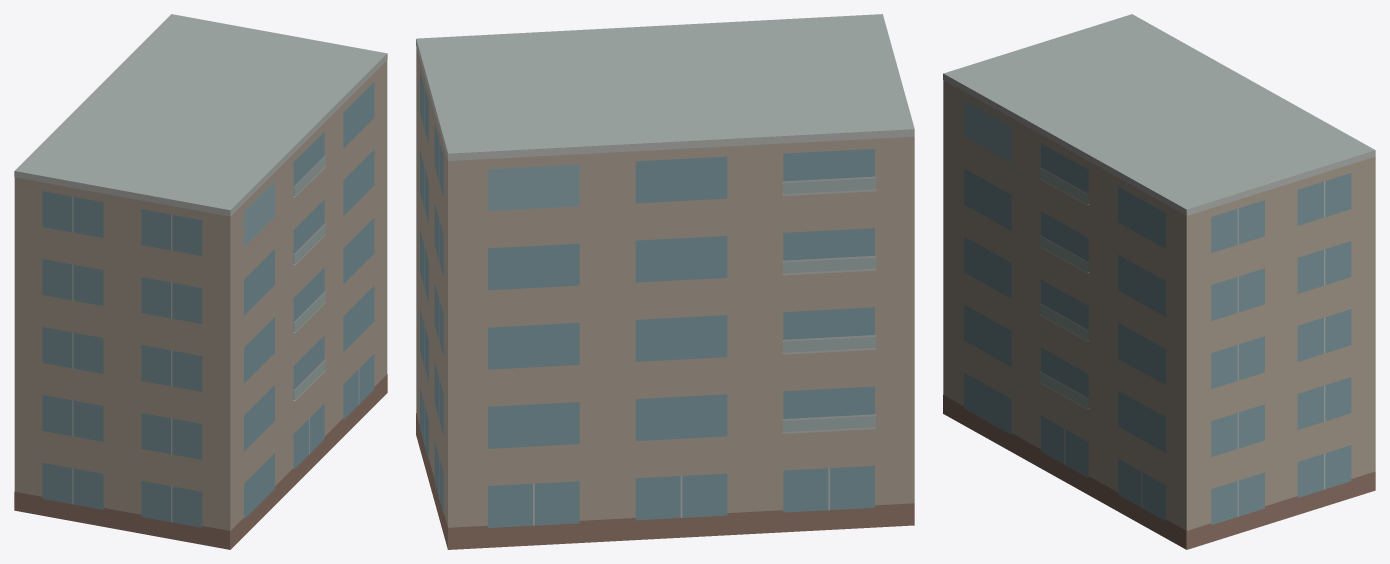
File: survey-upis-32947928.glb
3 views of the same model, side by side, from view 1: azimuth 30°, elevation 25°; view 2: azimuth 150°, elevation 25°; view 3: azimuth 270°, elevation 25° (orthographic). The views are drawn at different scales.
Visible parts, largest first — view 1: survey-upis-32947928.tmp; view 2: survey-upis-32947928.tmp; view 3: survey-upis-32947928.tmp.
Part boxes in pixels (x1,y1,x2,y2): survey-upis-32947928.tmp: [14, 14, 387, 549]; survey-upis-32947928.tmp: [416, 14, 914, 549]; survey-upis-32947928.tmp: [943, 14, 1375, 549].
Bounding box in the file's own units: 16.1 × 13.05 × 15.04.
